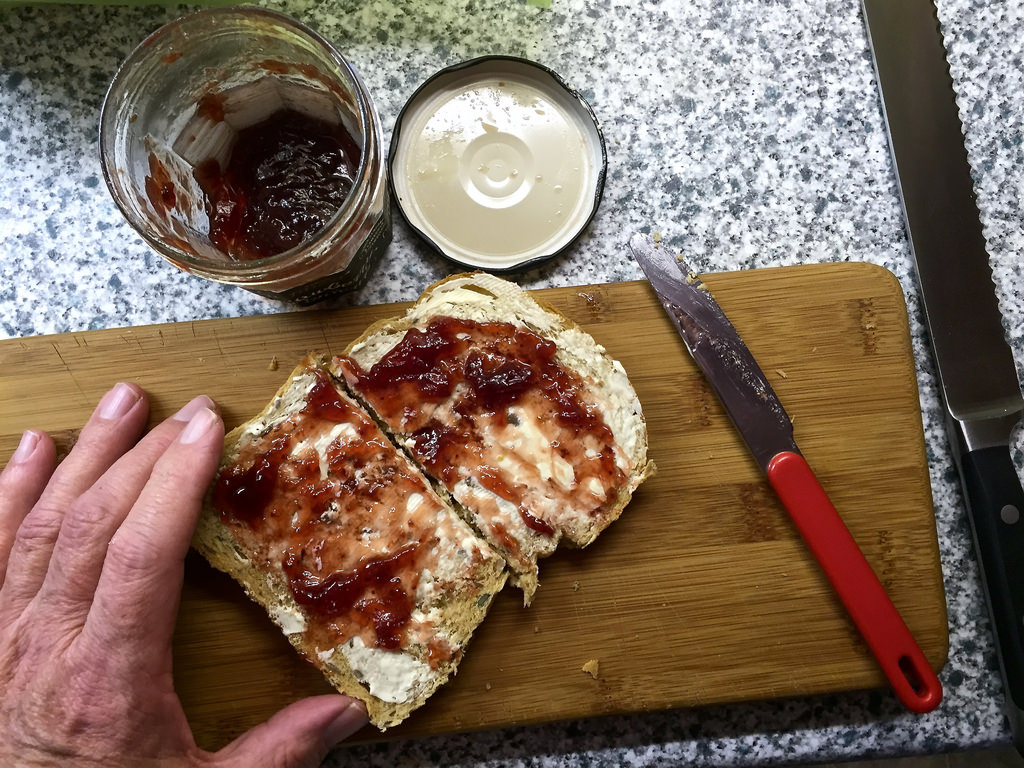slice of bread: (342, 286, 642, 550), (219, 414, 483, 679)
